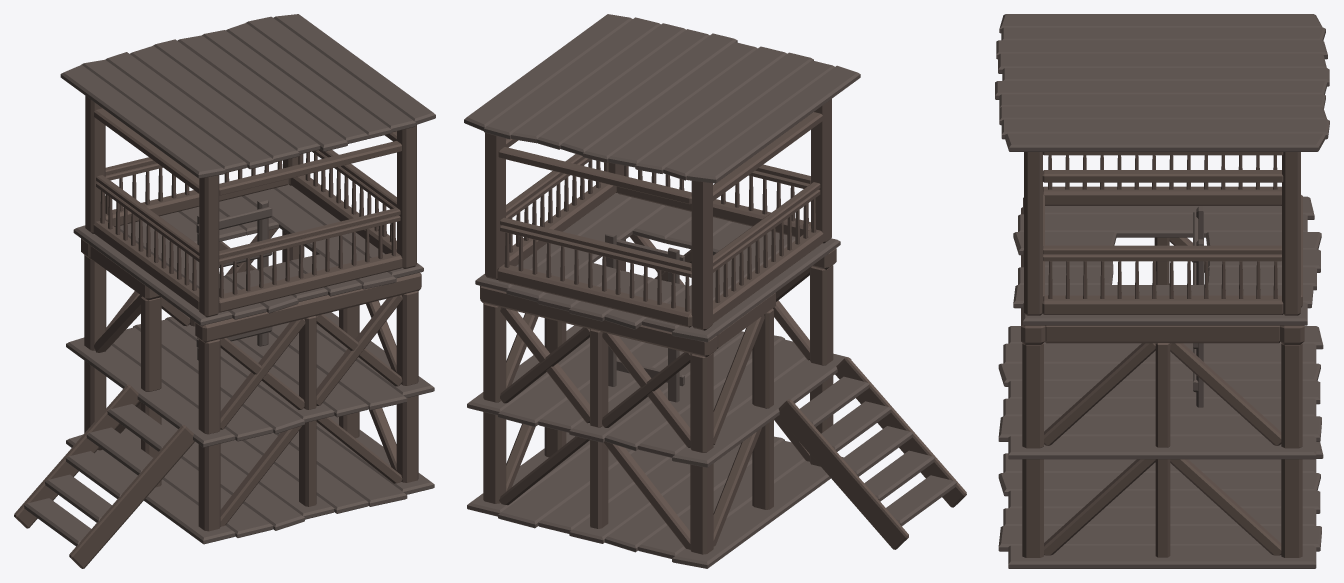
The model's file is farmstractures_04.glb.
The picture shows the model from 3 angles, left to right: view 1: azimuth 30°, elevation 25°; view 2: azimuth 150°, elevation 25°; view 3: azimuth 270°, elevation 25°; orthographic projection. The views are drawn at different scales.
Visible parts, largest first — view 1: farmstractures_04; view 2: farmstractures_04; view 3: farmstractures_04.
Part boxes in pixels (x1,y1,x2,y2): farmstractures_04: (14,14,435,568); farmstractures_04: (464,14,966,568); farmstractures_04: (995,14,1329,568).
Bounding box in the file's own units: 5.29 × 5.42 × 3.82.
Materials: 1 (1 with a texture image).
